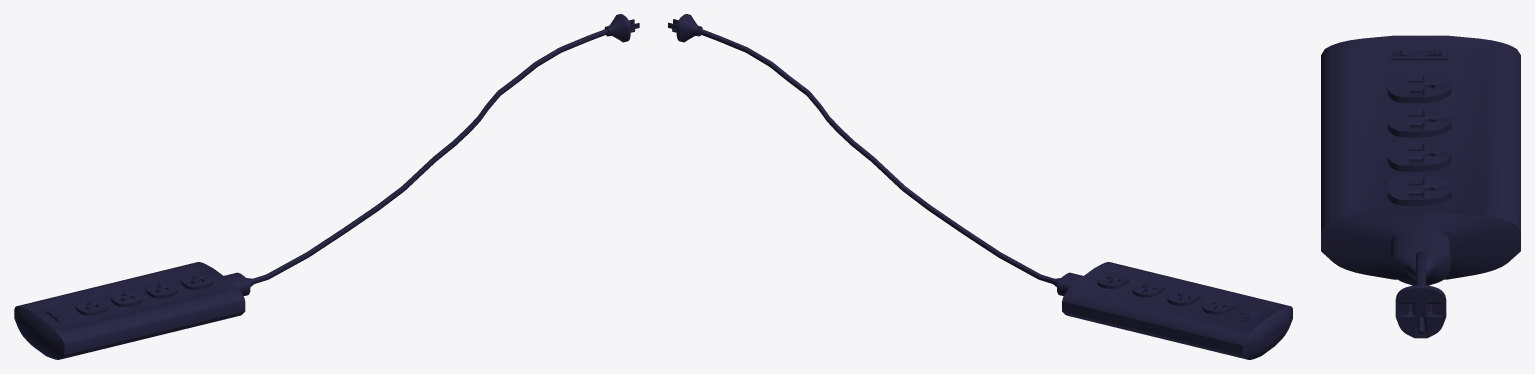
Rendered from MultipleOutlets.fbx.
3 renders of one model, left to right at view 1: azimuth 30°, elevation 25°; view 2: azimuth 150°, elevation 25°; view 3: azimuth 270°, elevation 25°, orthographic. The views are drawn at different scales.
Parts seen in each view (by area): view 1: Box112; view 2: Box112; view 3: Box112.
Part boxes in pixels (box(x1,y1,x2,y2)): Box112: box(14, 14, 639, 359); Box112: box(668, 14, 1292, 359); Box112: box(1321, 35, 1520, 338).
Bounding box in the file's own units: 45.18 × 13.8 × 6.48.
